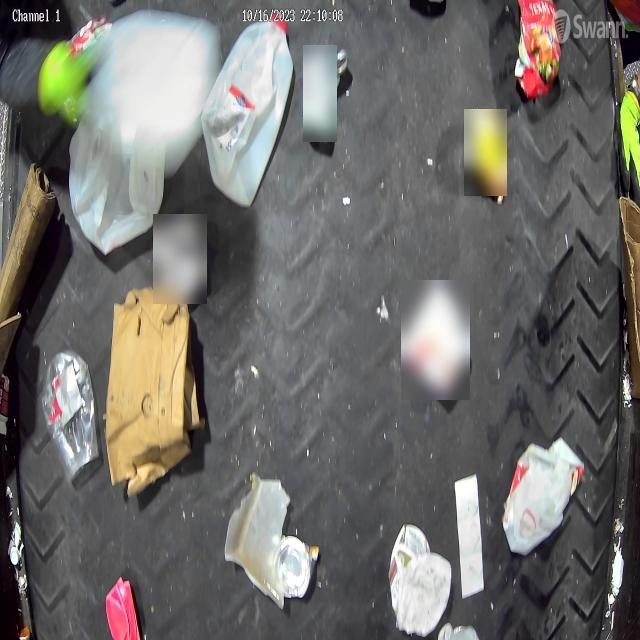milk_jug: (80, 12, 221, 180), (69, 56, 172, 252), (204, 20, 296, 209), (501, 439, 584, 558)
